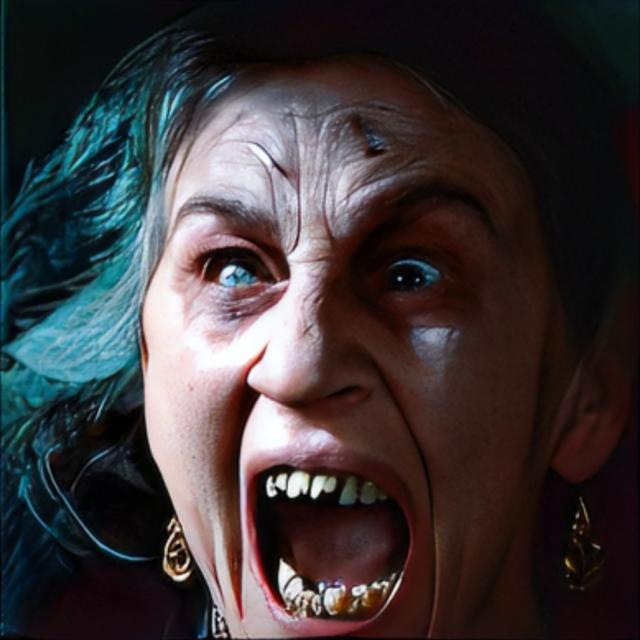anger: (132, 65, 555, 640)
